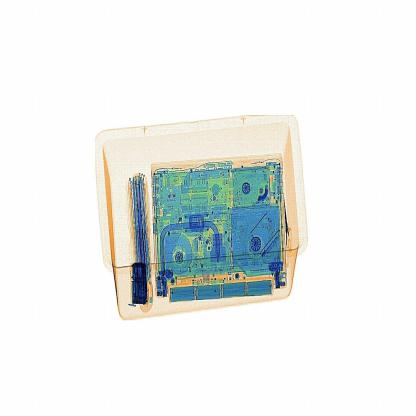scissors: (125, 251, 156, 318)
